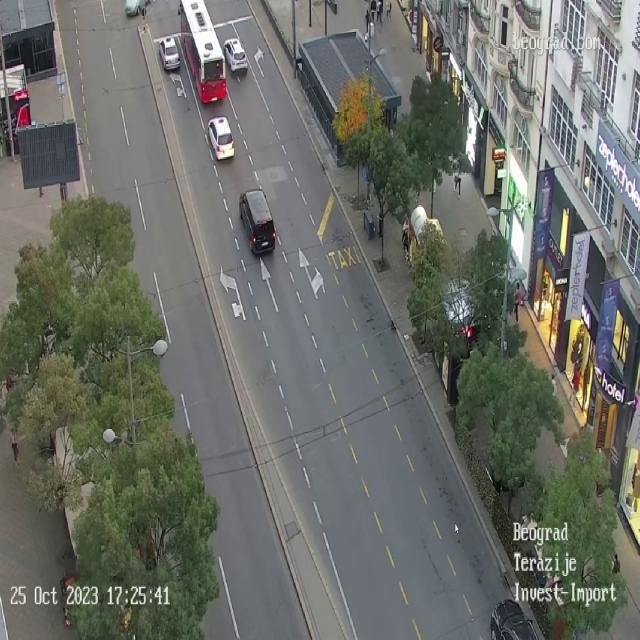bus: (178, 2, 227, 102)
car: (239, 188, 276, 255), (490, 598, 538, 640), (207, 116, 235, 161), (224, 37, 248, 74), (159, 36, 180, 71), (126, 0, 150, 14)
